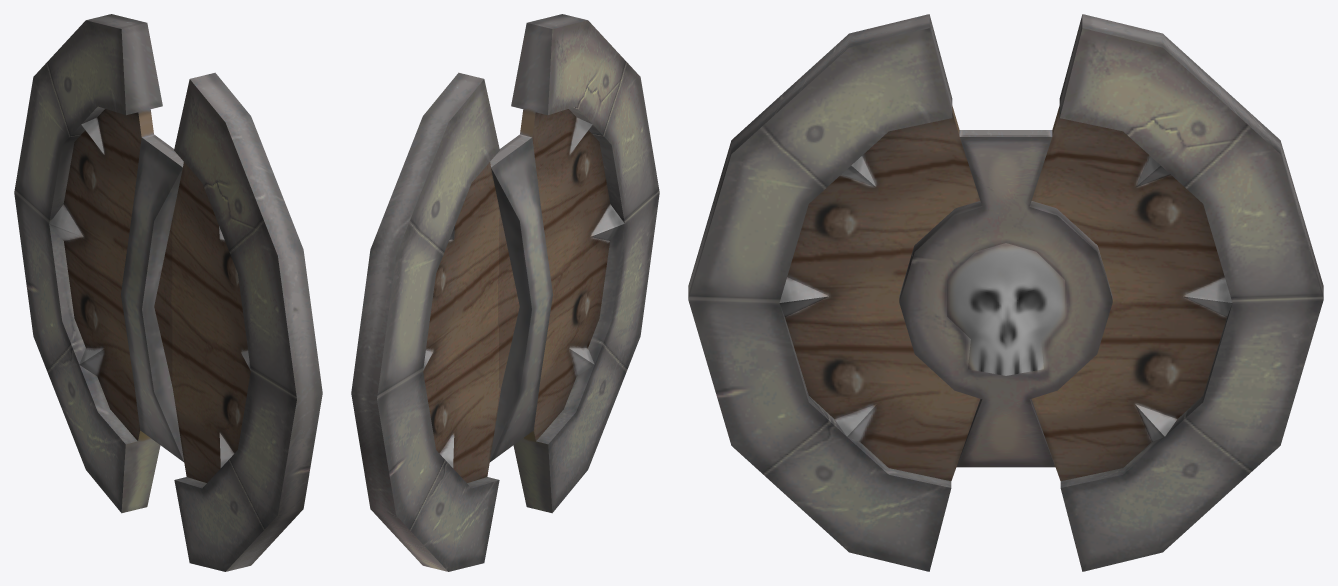
File: shield-2.glb
The picture shows the model from 3 angles, left to right: view 1: azimuth 30°, elevation 25°; view 2: azimuth 150°, elevation 25°; view 3: azimuth 270°, elevation 25°; orthographic projection. The views are drawn at different scales.
Visible parts, largest first — view 1: shield.001_Circle; view 2: shield.001_Circle; view 3: shield.001_Circle.
Part boxes in pixels (bbox=[...]): shield.001_Circle: bbox=[14, 14, 322, 571]; shield.001_Circle: bbox=[351, 14, 659, 571]; shield.001_Circle: bbox=[688, 14, 1323, 571].
Bounding box in the file's own units: 0.2955 × 1.87 × 1.98.
Materials: 1 (1 with a texture image).
